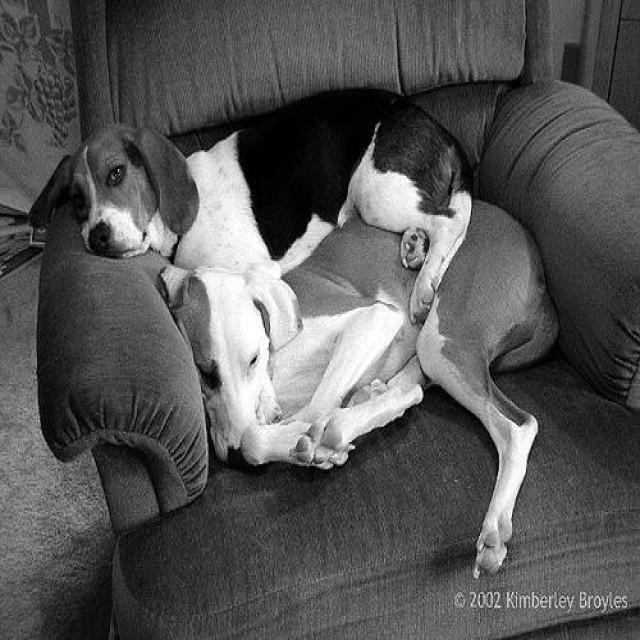beagle: (155, 196, 561, 584), (30, 87, 476, 323)
